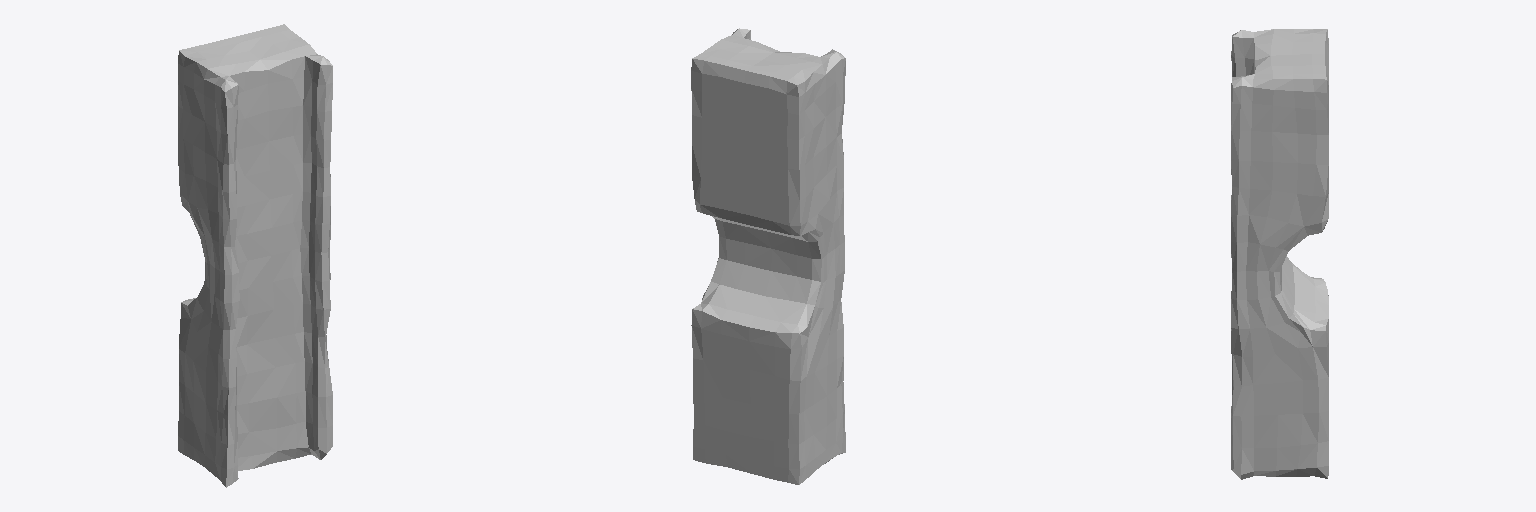
File: StoneBridge.obj
3 views of the same model, side by side, from view 1: azimuth 30°, elevation 25°; view 2: azimuth 150°, elevation 25°; view 3: azimuth 270°, elevation 25° (orthographic).
Parts seen in each view (by area): view 1: Group21510; view 2: Group21510; view 3: Group21510.
Part boxes in pixels (bbox=[...]): Group21510: bbox=[178, 24, 332, 487]; Group21510: bbox=[691, 28, 845, 484]; Group21510: bbox=[1231, 29, 1328, 479].
Bounding box in the file's own units: 0.7798 × 2.74 × 0.6016.